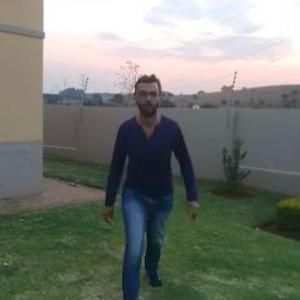follow: (107, 75, 184, 299)
